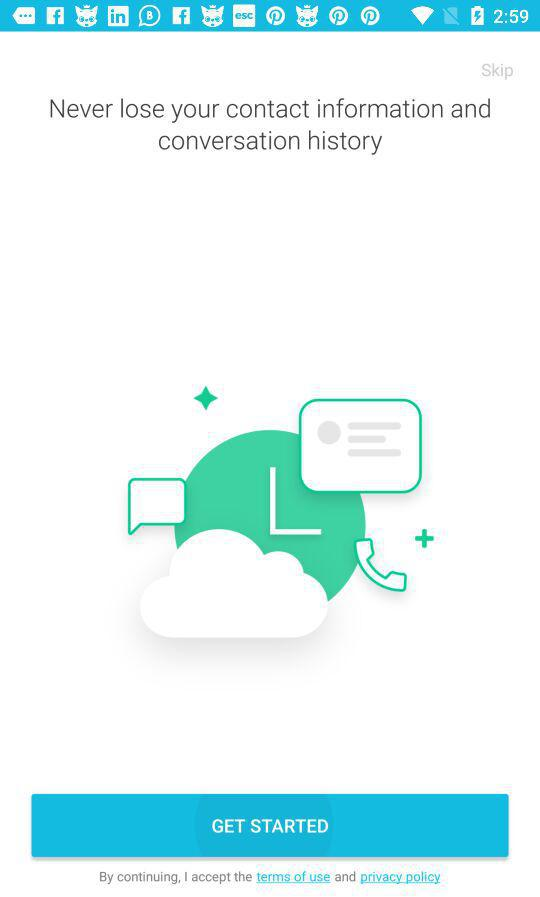Image: (127, 385, 435, 639)
Text: (50, 98, 491, 156), (100, 870, 442, 886), (481, 63, 514, 82)
TextButton: (32, 793, 509, 858)
UpperTaskBar: (1, 1, 540, 33)
